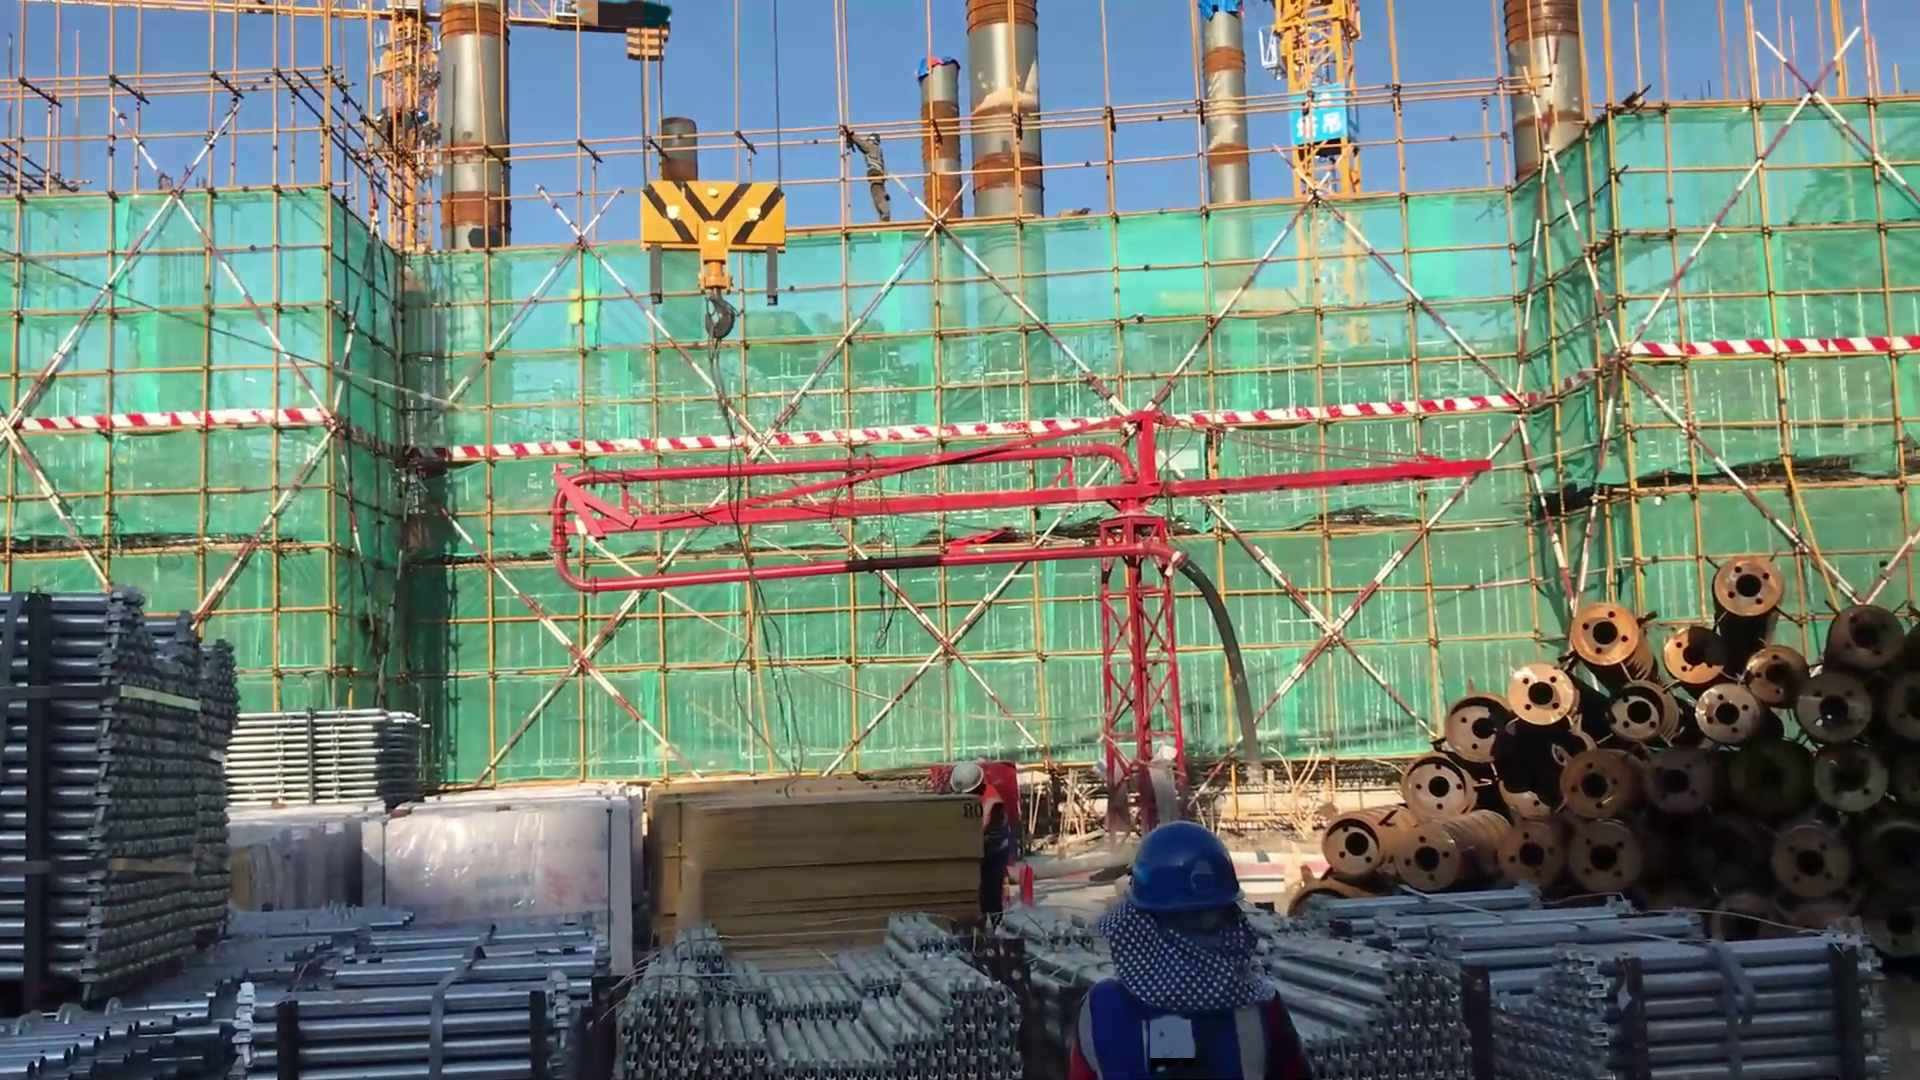board: (645, 783, 984, 959)
helmet: (1122, 824, 1252, 916), (948, 761, 993, 806), (869, 130, 883, 144)
hook: (619, 148, 833, 395)
person: (1056, 811, 1318, 1080), (934, 761, 1033, 928), (833, 112, 900, 237)
scaffold: (1279, 892, 1886, 1080), (1, 592, 255, 996), (209, 903, 604, 1080), (616, 923, 1026, 1080), (2, 978, 261, 1080)
slogan: (1291, 88, 1352, 145)
vest: (1071, 971, 1268, 1080), (974, 783, 1019, 859), (865, 144, 889, 180)
